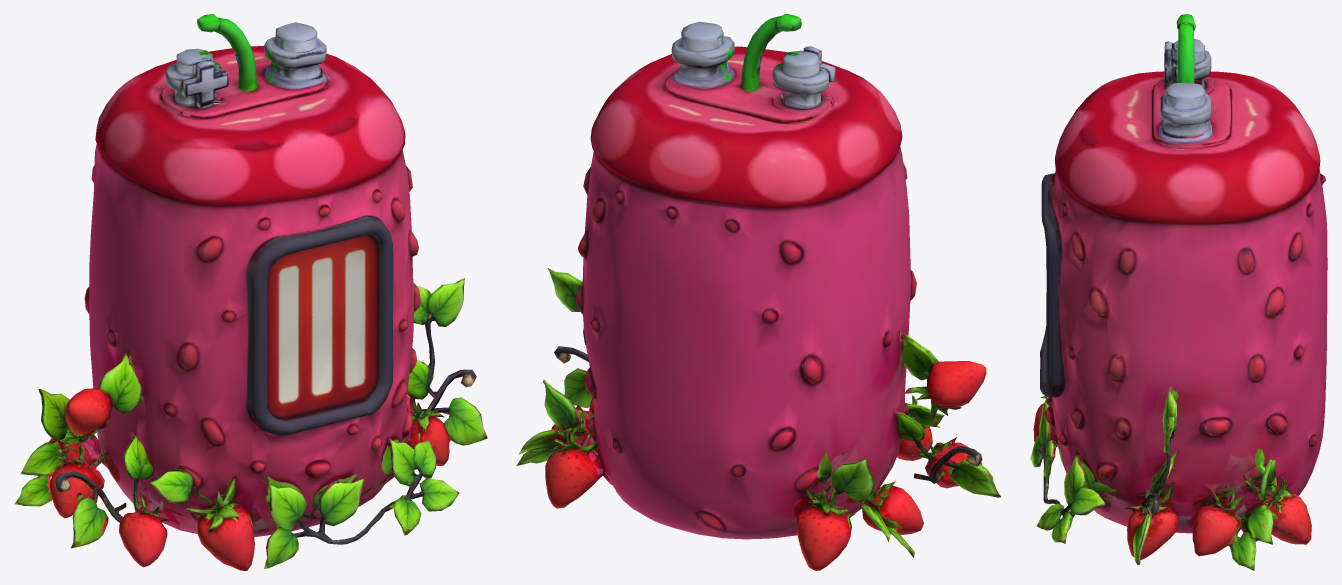
The model's file is Meshy_AI_Strawberry_Power_Sour_0109075104_texture.fbx.
3 views of the same model, side by side, from view 1: azimuth 30°, elevation 25°; view 2: azimuth 150°, elevation 25°; view 3: azimuth 270°, elevation 25° (orthographic). The views are drawn at different scales.
Parts seen in each view (by area): view 1: Mesh1.0; view 2: Mesh1.0; view 3: Mesh1.0.
Part boxes in pixels (x1,y1,x2,y2): Mesh1.0: (14, 14, 487, 570); Mesh1.0: (516, 14, 1000, 570); Mesh1.0: (1030, 14, 1327, 570).
Bounding box in the file's own units: 174 × 191 × 112.
1 material, 1 textured.
